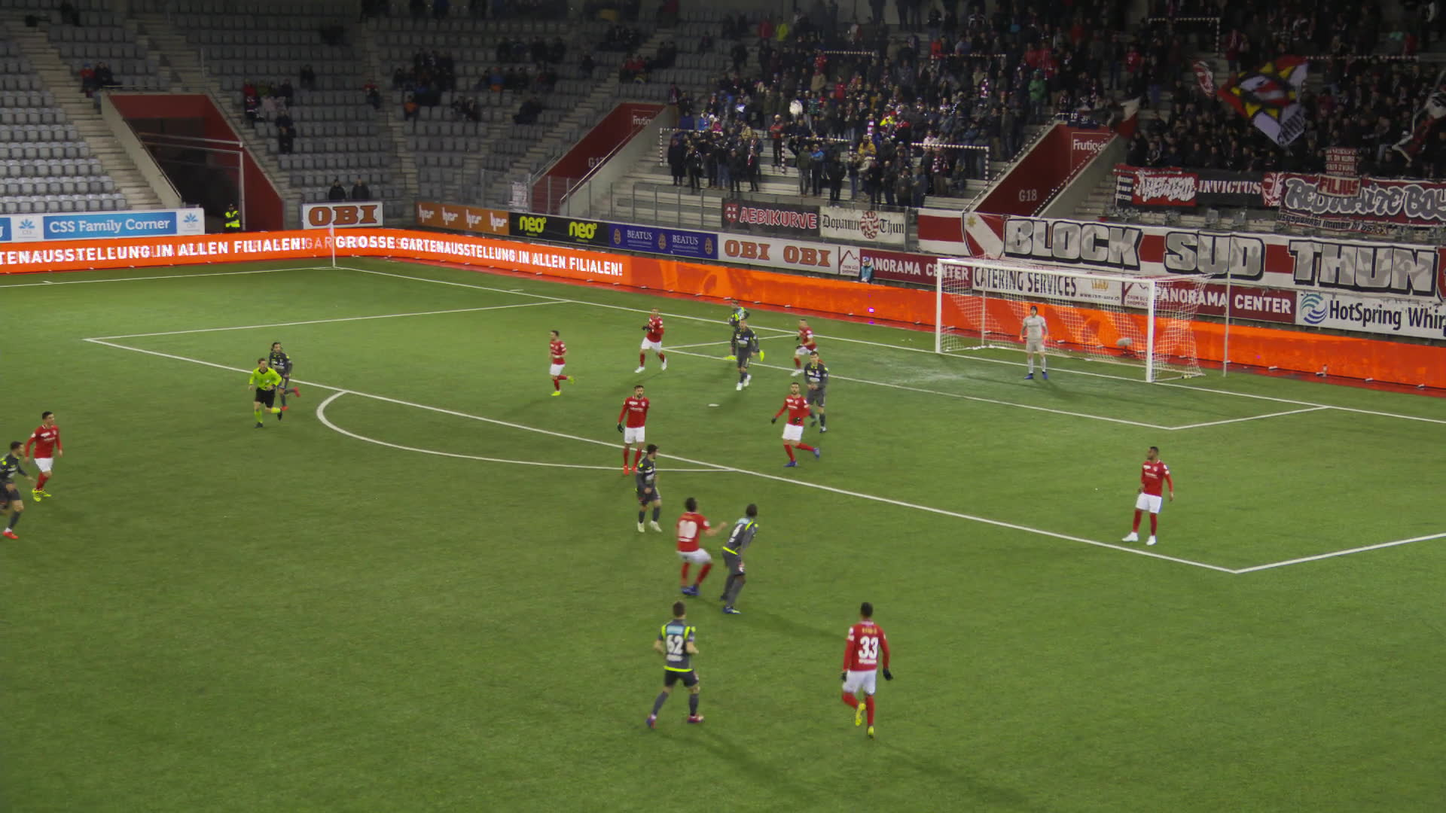ball: (787, 90, 803, 111)
player: (830, 603, 893, 743), (640, 602, 702, 732), (654, 495, 723, 601), (1118, 443, 1176, 549), (770, 379, 828, 473), (712, 501, 758, 614), (17, 409, 63, 504), (612, 383, 651, 479), (266, 339, 307, 413), (0, 439, 30, 539), (802, 348, 836, 435), (630, 443, 662, 534), (722, 300, 765, 364), (632, 306, 670, 377), (543, 327, 581, 397), (727, 316, 761, 391), (1017, 303, 1049, 381), (792, 317, 828, 371)
referee: (246, 356, 286, 430)
